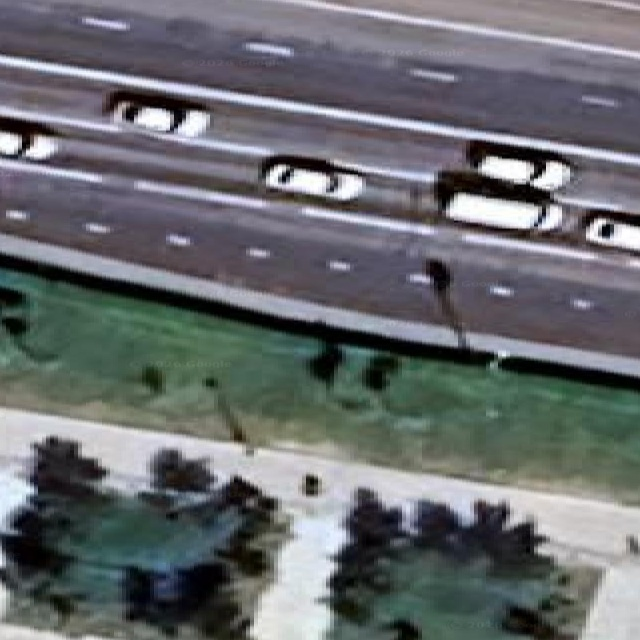car: (433, 171, 562, 230), (467, 140, 571, 190), (104, 91, 209, 136), (260, 155, 364, 200), (444, 192, 560, 230), (0, 118, 55, 160), (587, 212, 639, 251)
